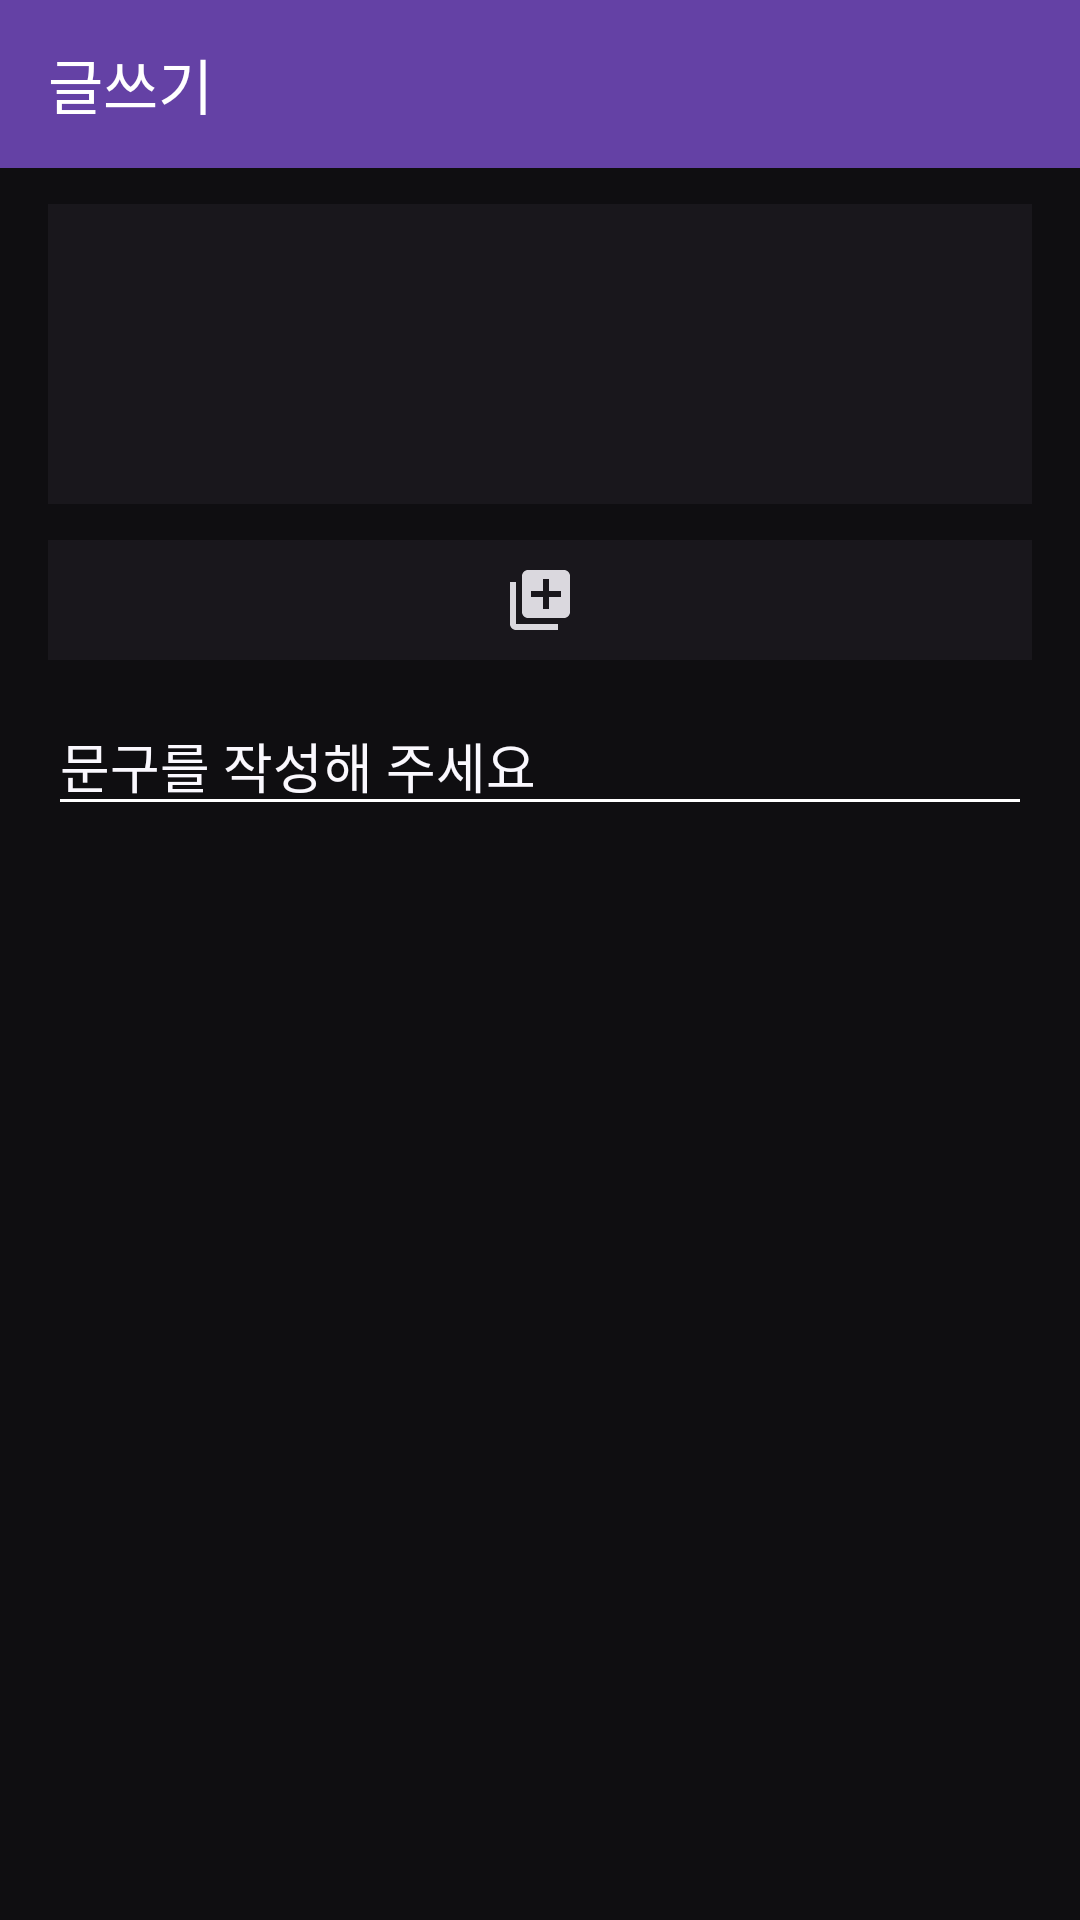

Icons on this 1080 x 1920 Android screen, each with the point to tap as (x=x, y=y):
add to photos: (x=540, y=600)
